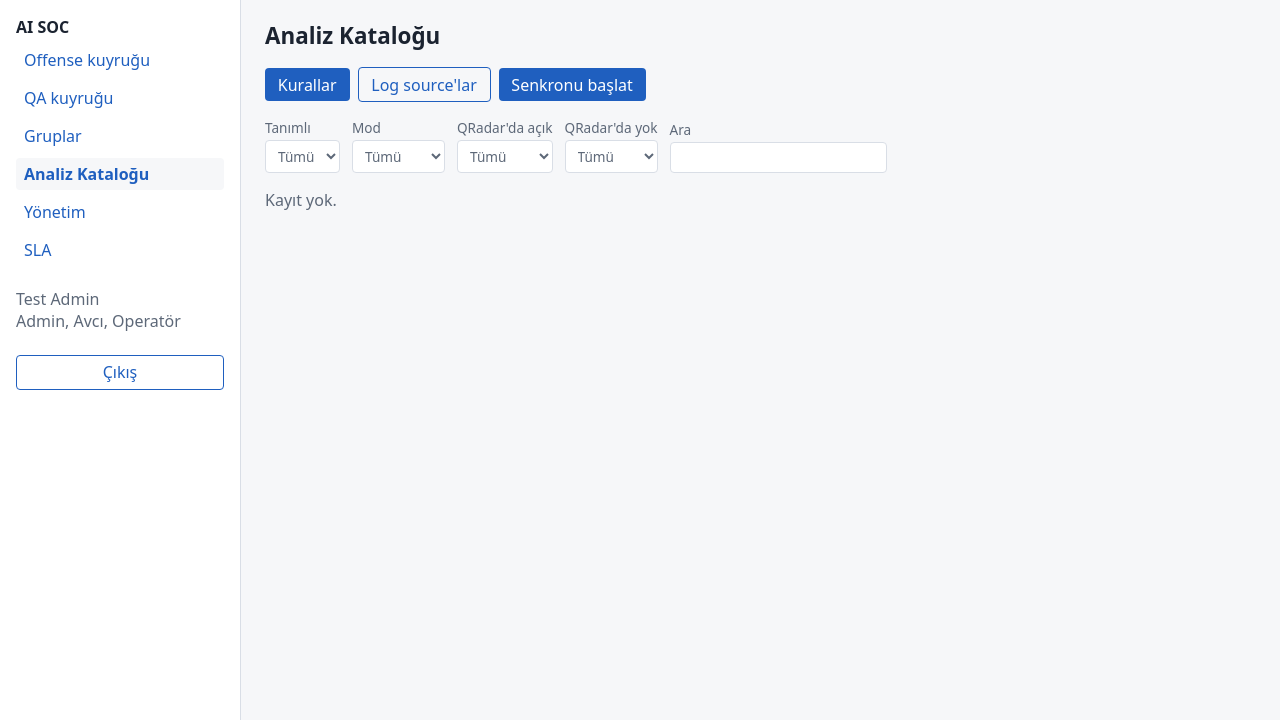
it: catalog (criterion 8) › starts the sync (202) and says it started
Click the button "Senkronu başlat" at (572, 85), box [498,68,646,101]
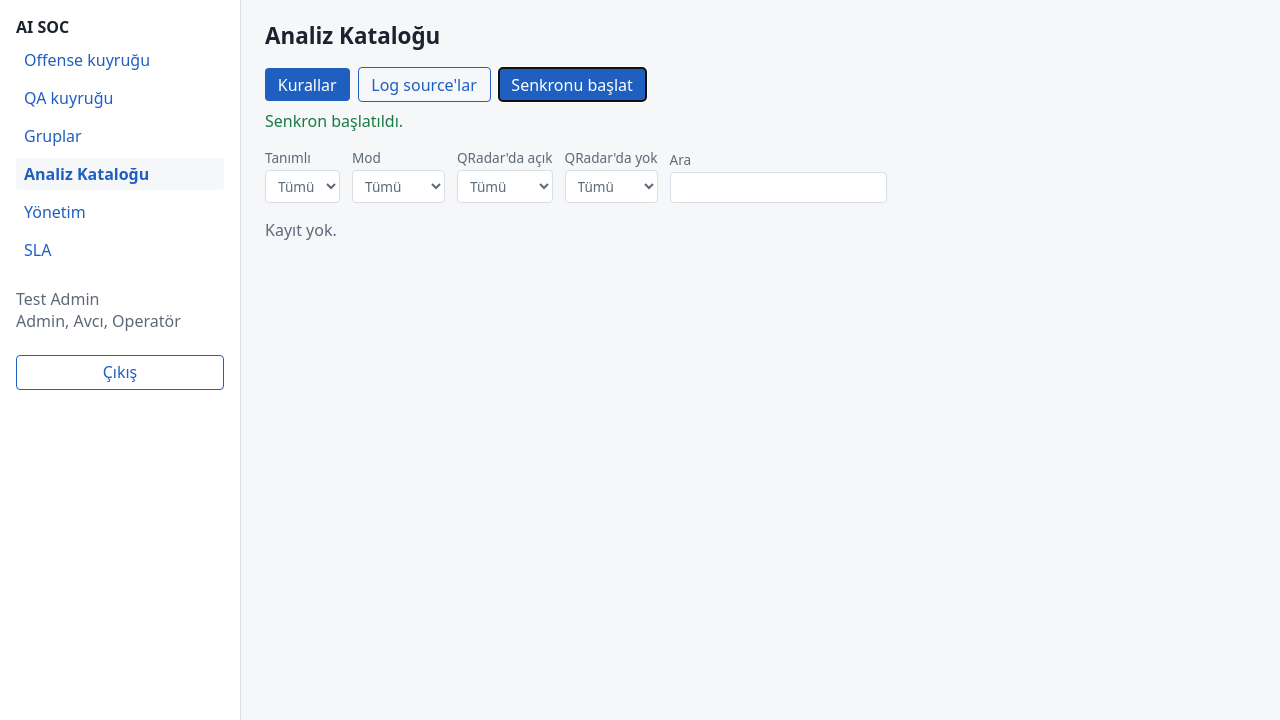
Now the text "Senkron başlatıldı." is shown, box [265,110,403,132]
